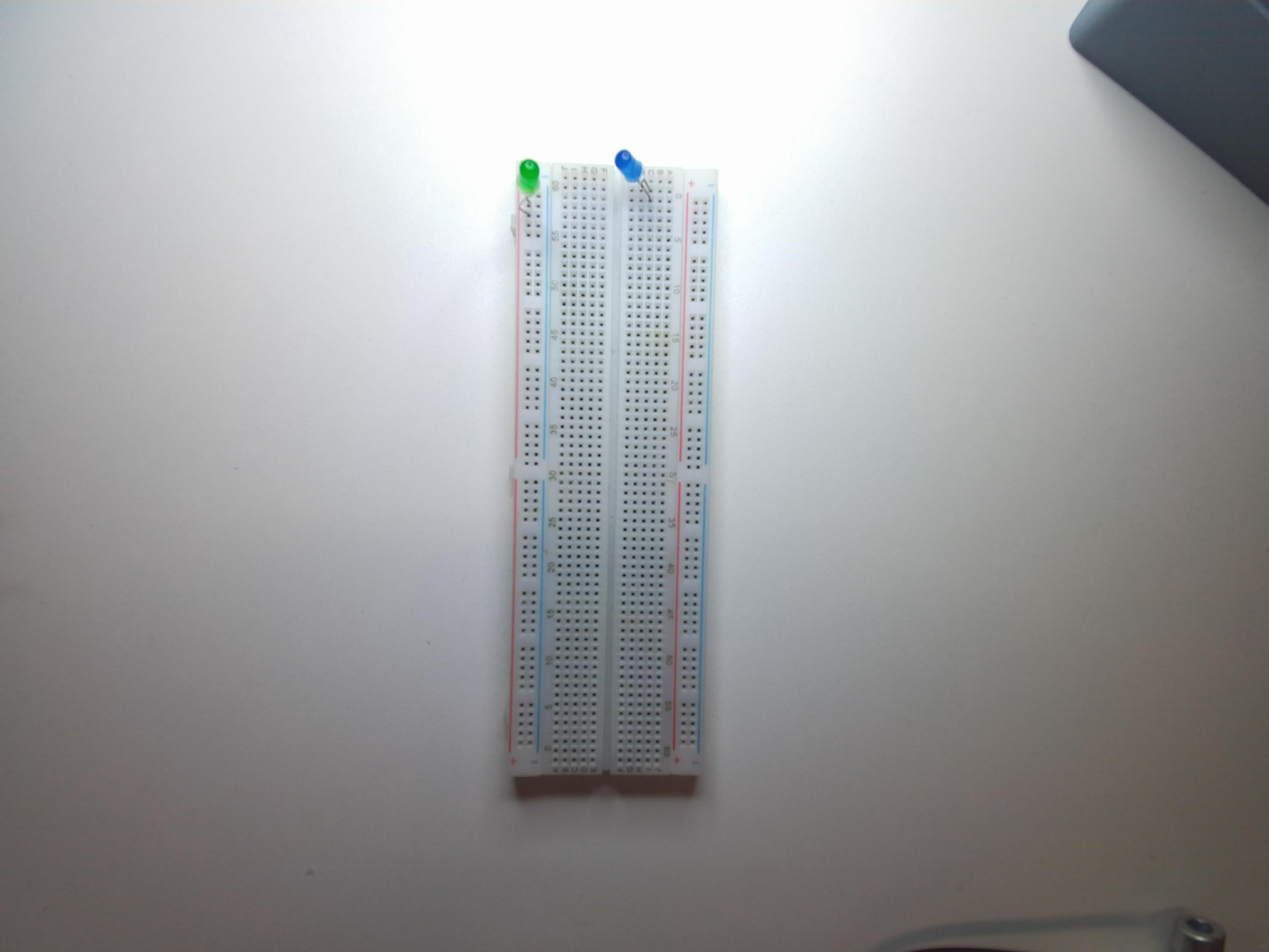base: (506, 149, 724, 796)
blue-led: (610, 144, 646, 185)
green-led: (513, 152, 543, 201)
